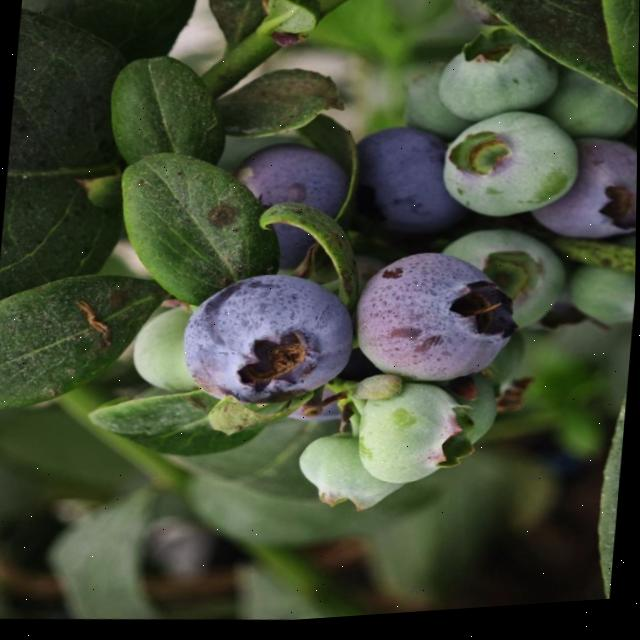RipeBlueBerry: (182, 260, 359, 421), (346, 120, 478, 259), (226, 140, 351, 275), (525, 133, 638, 253)
UnripeBlueBerry: (345, 228, 529, 397), (432, 103, 580, 236), (339, 375, 483, 491), (439, 30, 564, 132)
